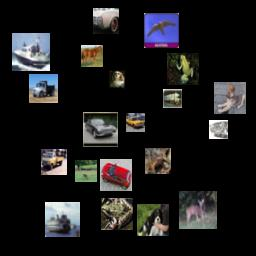automobile: (83, 112, 118, 147), (100, 159, 132, 191), (93, 8, 119, 34), (126, 113, 145, 132)
bird: (144, 13, 179, 48)
cat: (209, 120, 228, 139)
deer: (179, 191, 217, 229), (75, 160, 97, 182)
dog: (214, 82, 246, 114), (137, 204, 169, 236), (106, 68, 128, 90)
frog: (101, 198, 133, 230), (167, 53, 199, 85), (145, 148, 171, 174)
ship: (12, 33, 50, 71), (45, 202, 80, 237)
truck: (29, 74, 58, 103), (41, 149, 67, 175), (163, 89, 182, 108)
